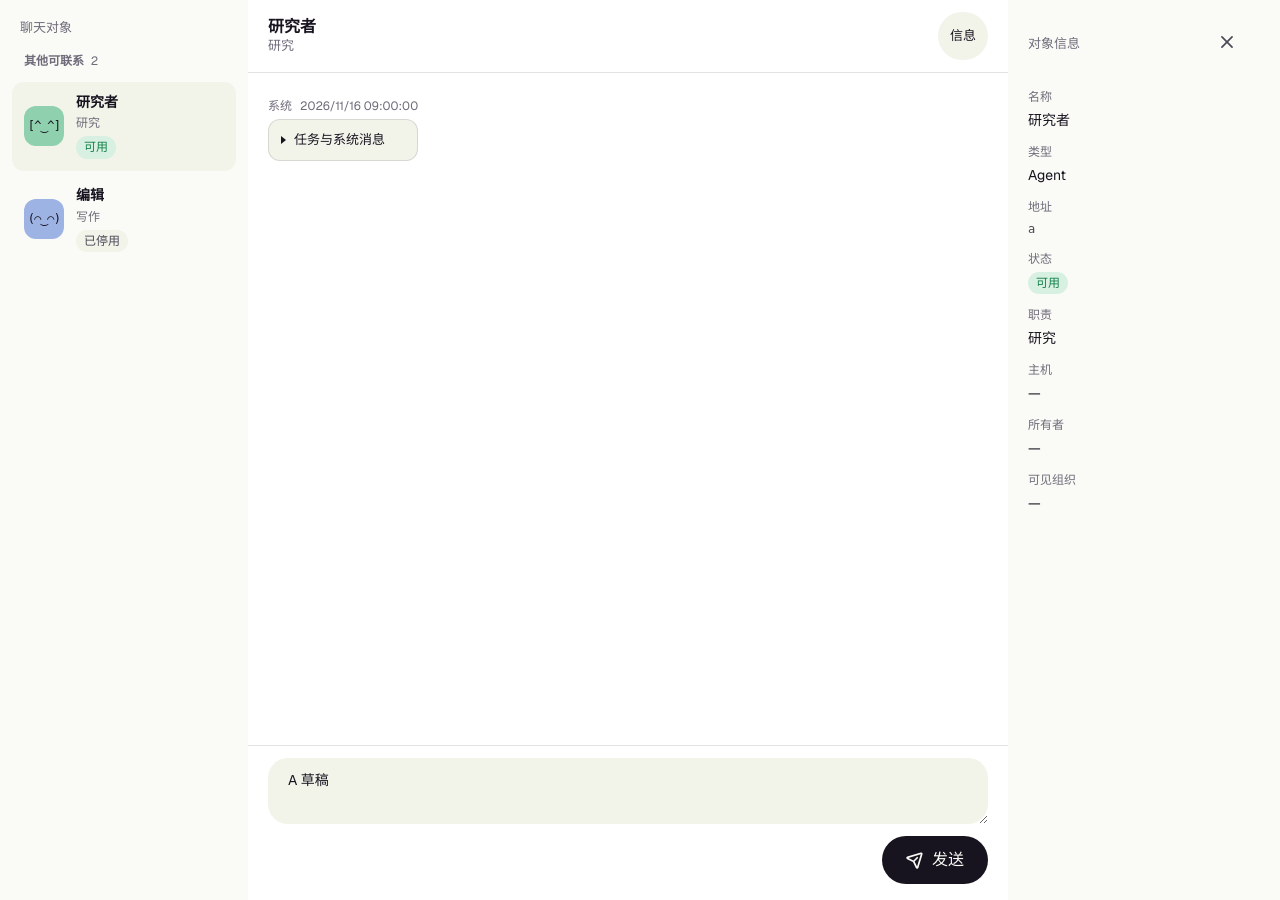
keeps an opened system message in its own detail block with the timestamp in the label row
The image size is (1280, 900).
Expected: the element with class "chat-workspace__message" is shown, [268, 97, 418, 161]
What coordinates should you click on to do the following:
click the heading "任务与系统消息"
I would click on:
 (340, 140)
Its box is [294, 131, 385, 148].
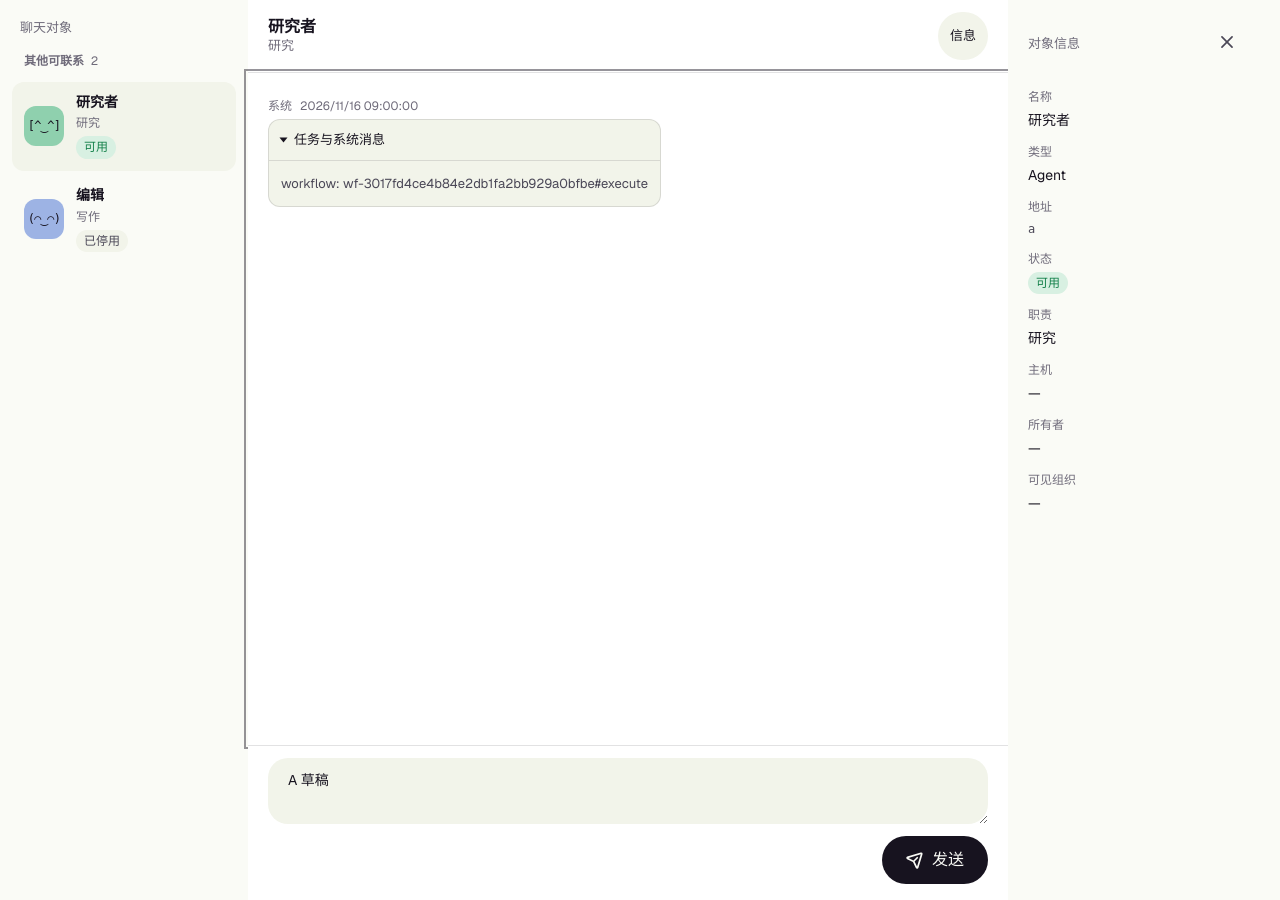
Expected: the element with class "chat-workspace__system-heading" is shown, [268, 98, 418, 114]
Result: the element with class "chat-workspace__system-body" shows "wf-3017fd4ce4b84e2db1fa2bb929a0bfbe#execute" at [281, 175, 648, 192]
